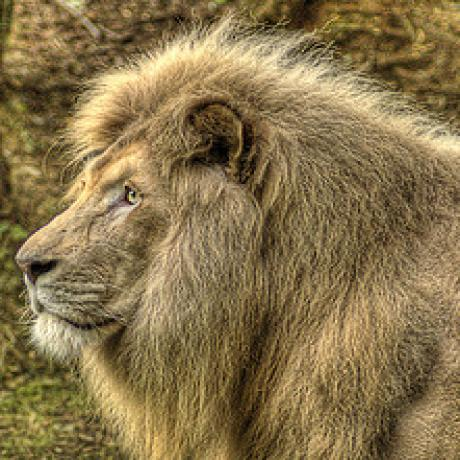Lion: (10, 33, 460, 460)
